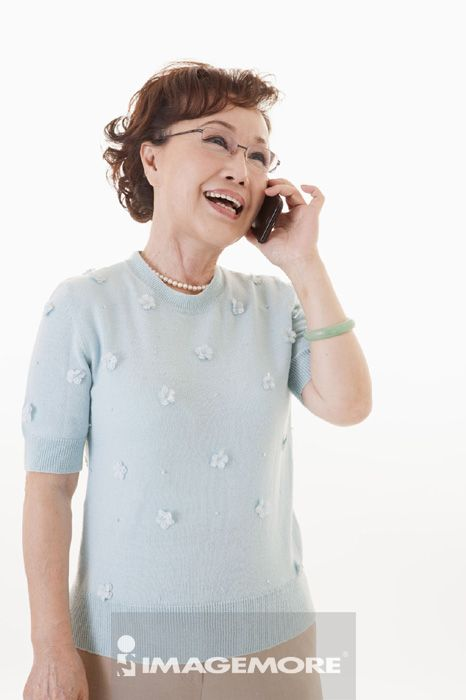talk: (187, 114, 323, 288)
